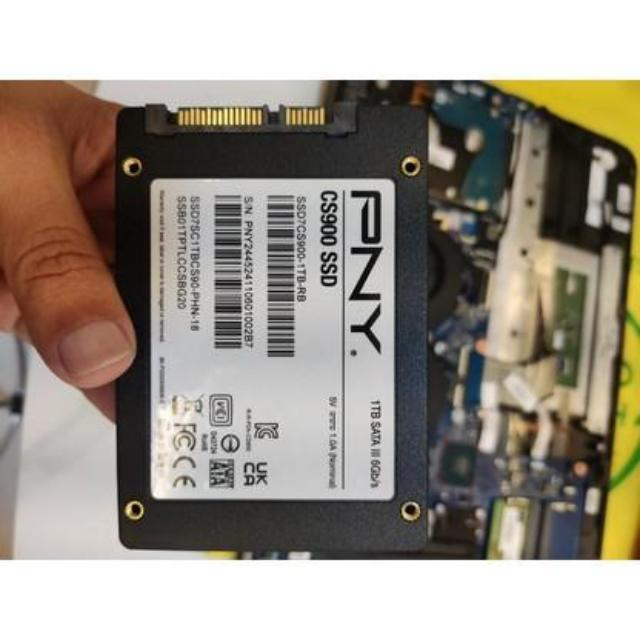DISK: (112, 100, 430, 555)
